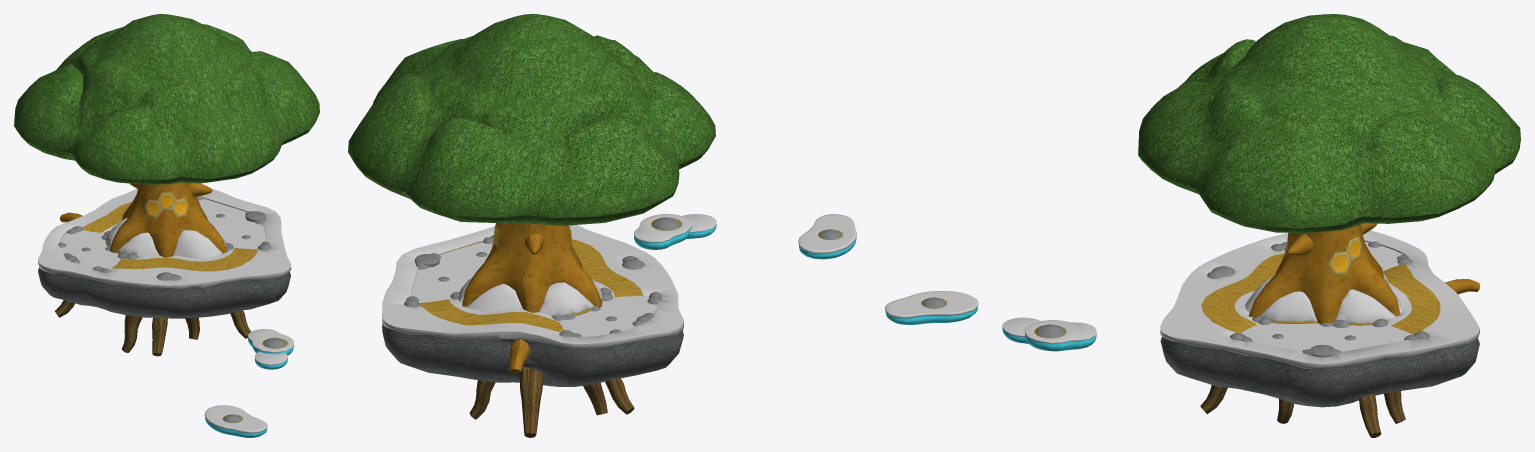
The model's file is forestbossplanet.dae.
3 views of the same model, side by side, from view 1: azimuth 30°, elevation 25°; view 2: azimuth 150°, elevation 25°; view 3: azimuth 270°, elevation 25° (orthographic). The views are drawn at different scales.
Visible parts, largest first — view 1: n0b5, n3b4, n11b6, n14b8, n1b14, n10b9, n2b7, n7b12, n12b2, n8b3, n5b11, n9b1 (+1 smaller); view 2: n0b5, n3b4, n11b6, n14b8, n1b14, n10b9, n7b12, n2b7, n12b2, n8b3; view 3: n0b5, n3b4, n11b6, n14b8, n10b9, n1b14, n2b7, n12b2, n7b12, n8b3, n9b1.
Part boxes in pixels (left/top/right/bottom): n0b5: left=14, top=14, right=319, bottom=184; n3b4: left=38, top=189, right=294, bottom=433; n11b6: left=38, top=267, right=290, bottom=318; n14b8: left=60, top=182, right=227, bottom=257; n1b14: left=59, top=199, right=266, bottom=269; n10b9: left=83, top=201, right=257, bottom=271; n2b7: left=103, top=218, right=234, bottom=261; n7b12: left=55, top=300, right=250, bottom=356; n12b2: left=58, top=195, right=286, bottom=422; n8b3: left=205, top=337, right=293, bottom=437; n5b11: left=146, top=195, right=186, bottom=215; n9b1: left=60, top=191, right=287, bottom=422; n0b5: left=348, top=14, right=715, bottom=225; n3b4: left=382, top=213, right=856, bottom=349; n11b6: left=382, top=322, right=683, bottom=386; n14b8: left=462, top=223, right=602, bottom=374; n1b14: left=411, top=242, right=657, bottom=336; n10b9: left=419, top=239, right=642, bottom=331; n7b12: left=469, top=366, right=634, bottom=437; n2b7: left=449, top=276, right=616, bottom=321; n12b2: left=404, top=217, right=841, bottom=337; n8b3: left=634, top=225, right=856, bottom=259; n0b5: left=1138, top=14, right=1520, bottom=233; n3b4: left=885, top=230, right=1479, bottom=368; n11b6: left=1160, top=336, right=1479, bottom=407; n14b8: left=1249, top=223, right=1480, bottom=323; n10b9: left=1201, top=253, right=1440, bottom=334; n1b14: left=1241, top=241, right=1412, bottom=351; n2b7: left=1234, top=273, right=1411, bottom=325; n12b2: left=922, top=241, right=1429, bottom=357; n7b12: left=1200, top=385, right=1405, bottom=437; n8b3: left=885, top=307, right=1096, bottom=351; n9b1: left=921, top=233, right=1404, bottom=338.
Size of the model in its own units: 7432 by 8639 by 12385.
